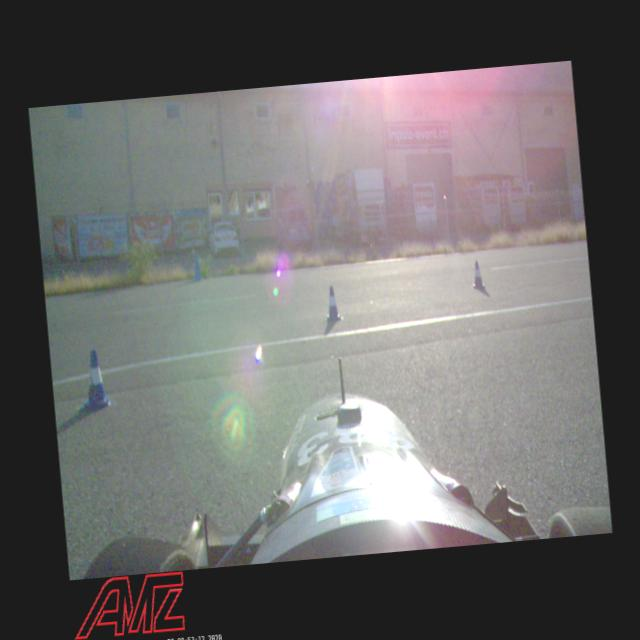blue_cone: (74, 346, 114, 412), (322, 284, 342, 322), (468, 258, 485, 290)
